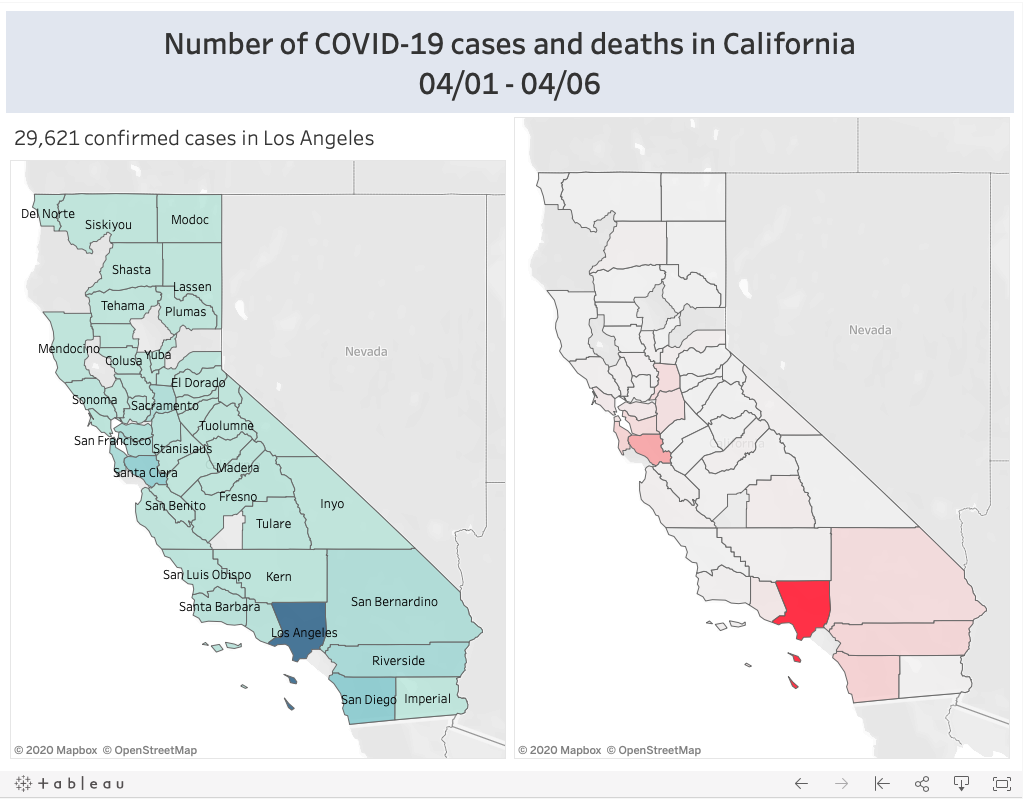

Layout of this report page (visuals, bound fields, positions):
{"tool":"tableau","page":{"name":"COVID-19 Dashboard","canvas":[1024,768],"ordinal":0},"visuals":[{"type":"title","box":[8,8,1008,102]},{"type":"worksheet","title":"Total Confirmed Map","mark":"Multipolygon","box":[8,110,504,650]},{"type":"worksheet","title":"Total Deaths Map","mark":"Automatic","box":[512,110,504,650]}]}

Visuals, with their boxes on the page's 1024x768 design canvas (x1, y1, x2, y2). These are canvas units, not pixel positions in the 1025x803 screenshot, which may show the page scaled, cropped or inside an application window:
title: [x1=8, y1=8, x2=1016, y2=110]
"Total Confirmed Map" worksheet (Multipolygon marks): [x1=8, y1=110, x2=512, y2=760]
"Total Deaths Map" worksheet: [x1=512, y1=110, x2=1016, y2=760]
